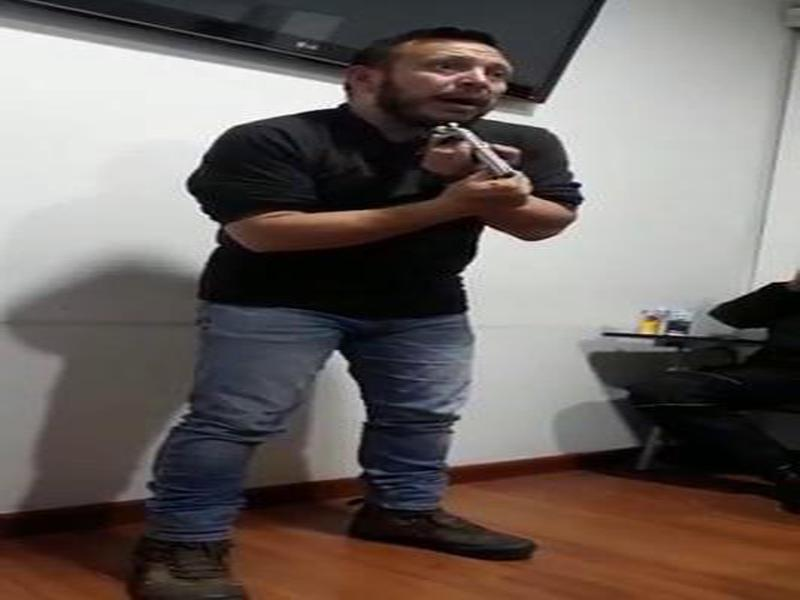Revolver: (407, 109, 528, 210)
